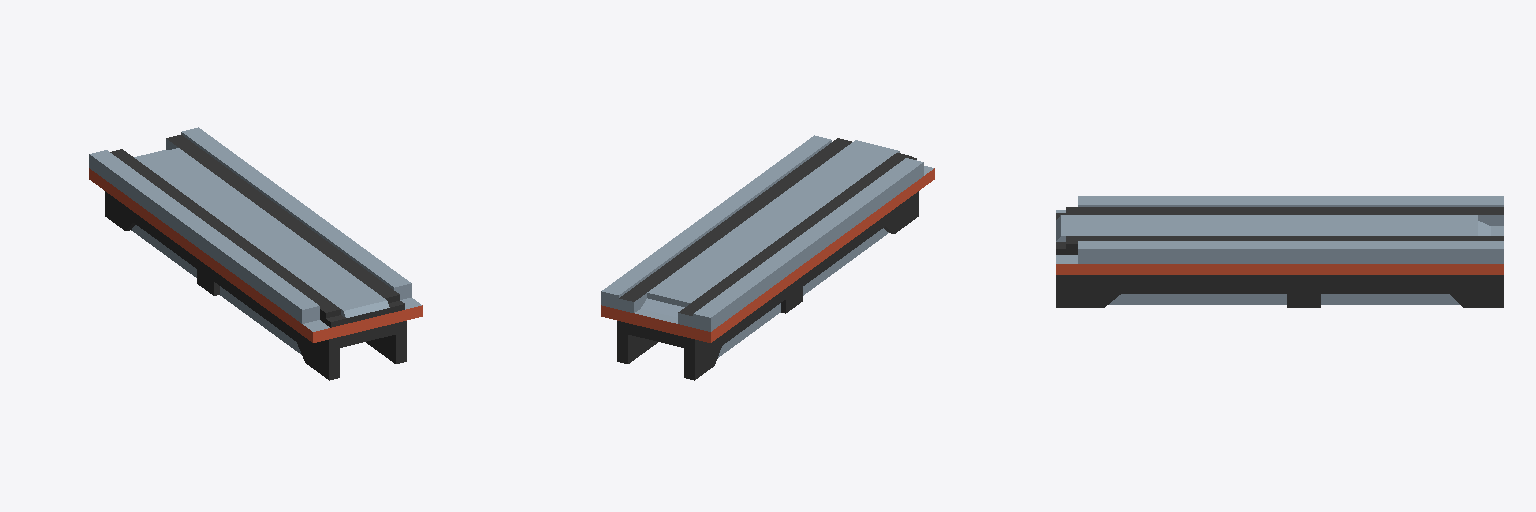
The model's file is monorailTrain_flat_exclusive.obj.
The picture shows the model from 3 angles: view 1: azimuth 30°, elevation 25°; view 2: azimuth 150°, elevation 25°; view 3: azimuth 270°, elevation 25°; orthographic projection.
Visible parts, largest first — view 1: monorailTrain_flat_exclusive; view 2: monorailTrain_flat_exclusive; view 3: monorailTrain_flat_exclusive.
Boxes of the visible parts, x1,y1,x2,y2 form: monorailTrain_flat_exclusive: [89, 127, 422, 380]; monorailTrain_flat_exclusive: [601, 135, 934, 380]; monorailTrain_flat_exclusive: [1056, 196, 1503, 307].
Bounding box in the file's own units: 4.06 × 2.36 × 14.4.